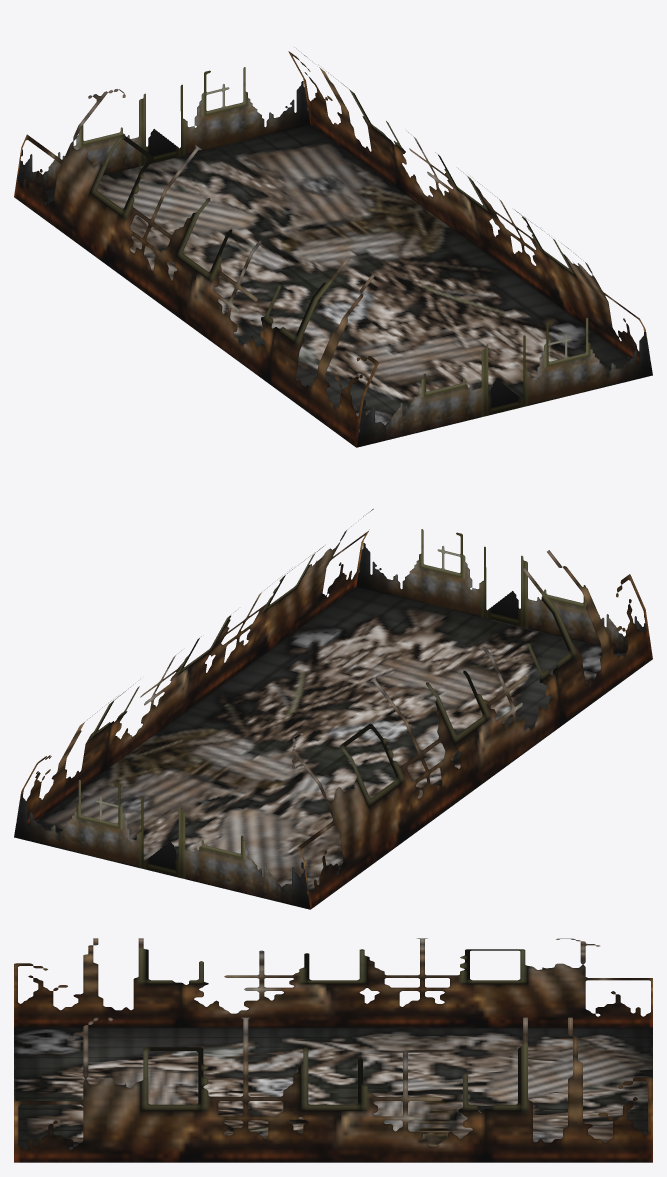
File: quonset_dam.glb
3 views of the same model, one above another, from view 1: azimuth 30°, elevation 25°; view 2: azimuth 150°, elevation 25°; view 3: azimuth 270°, elevation 25° (orthographic). The views are drawn at different scales.
Parts seen in each view (by area): view 1: Cylinder02; view 2: Cylinder02; view 3: Cylinder02.
Part boxes in pixels (left/top/right/bottom): Cylinder02: left=14, top=47, right=652, bottom=447; Cylinder02: left=14, top=508, right=652, bottom=909; Cylinder02: left=14, top=938, right=652, bottom=1162.
Size of the model in its own units: 8.38 by 3.39 by 16.76.
2 materials, 2 textured.
